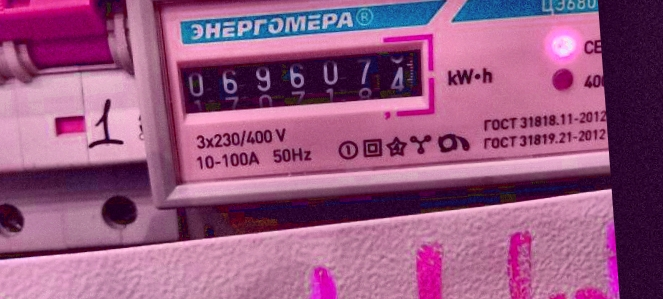0: (183, 68, 206, 98), (320, 55, 340, 86), (219, 66, 238, 93)
4: (387, 64, 406, 93)
6: (285, 58, 305, 89)
7: (353, 54, 373, 84)
9: (252, 62, 272, 92)
screen: (161, 28, 440, 132)
